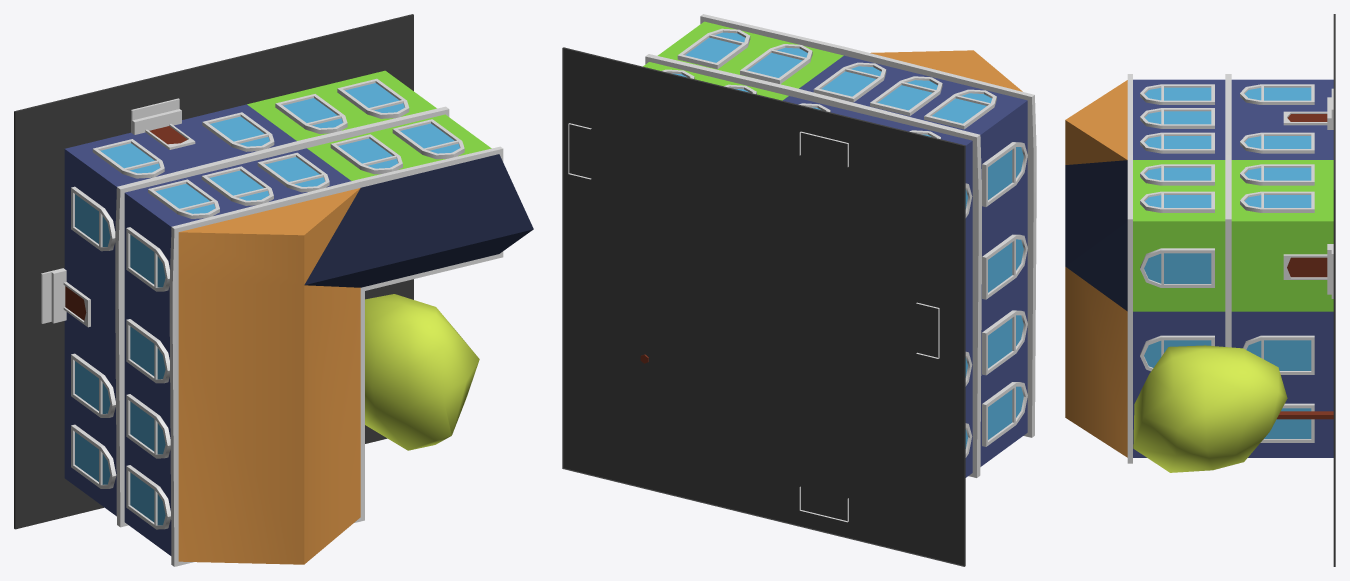
The model's file is Office_01.fbx.
The picture shows the model from 3 angles, left to right: view 1: azimuth 30°, elevation 25°; view 2: azimuth 150°, elevation 25°; view 3: azimuth 270°, elevation 25°; orthographic projection. The views are drawn at different scales.
Parts seen in each view (by area): view 1: Office_01; view 2: Office_01; view 3: Office_01.
Boxes of the visible parts, box(x1,y1,x2,y2) form: Office_01: box(14, 14, 533, 566); Office_01: box(562, 14, 1036, 566); Office_01: box(1065, 14, 1335, 566).
Bounding box in the file's own units: 200 × 200 × 130.
